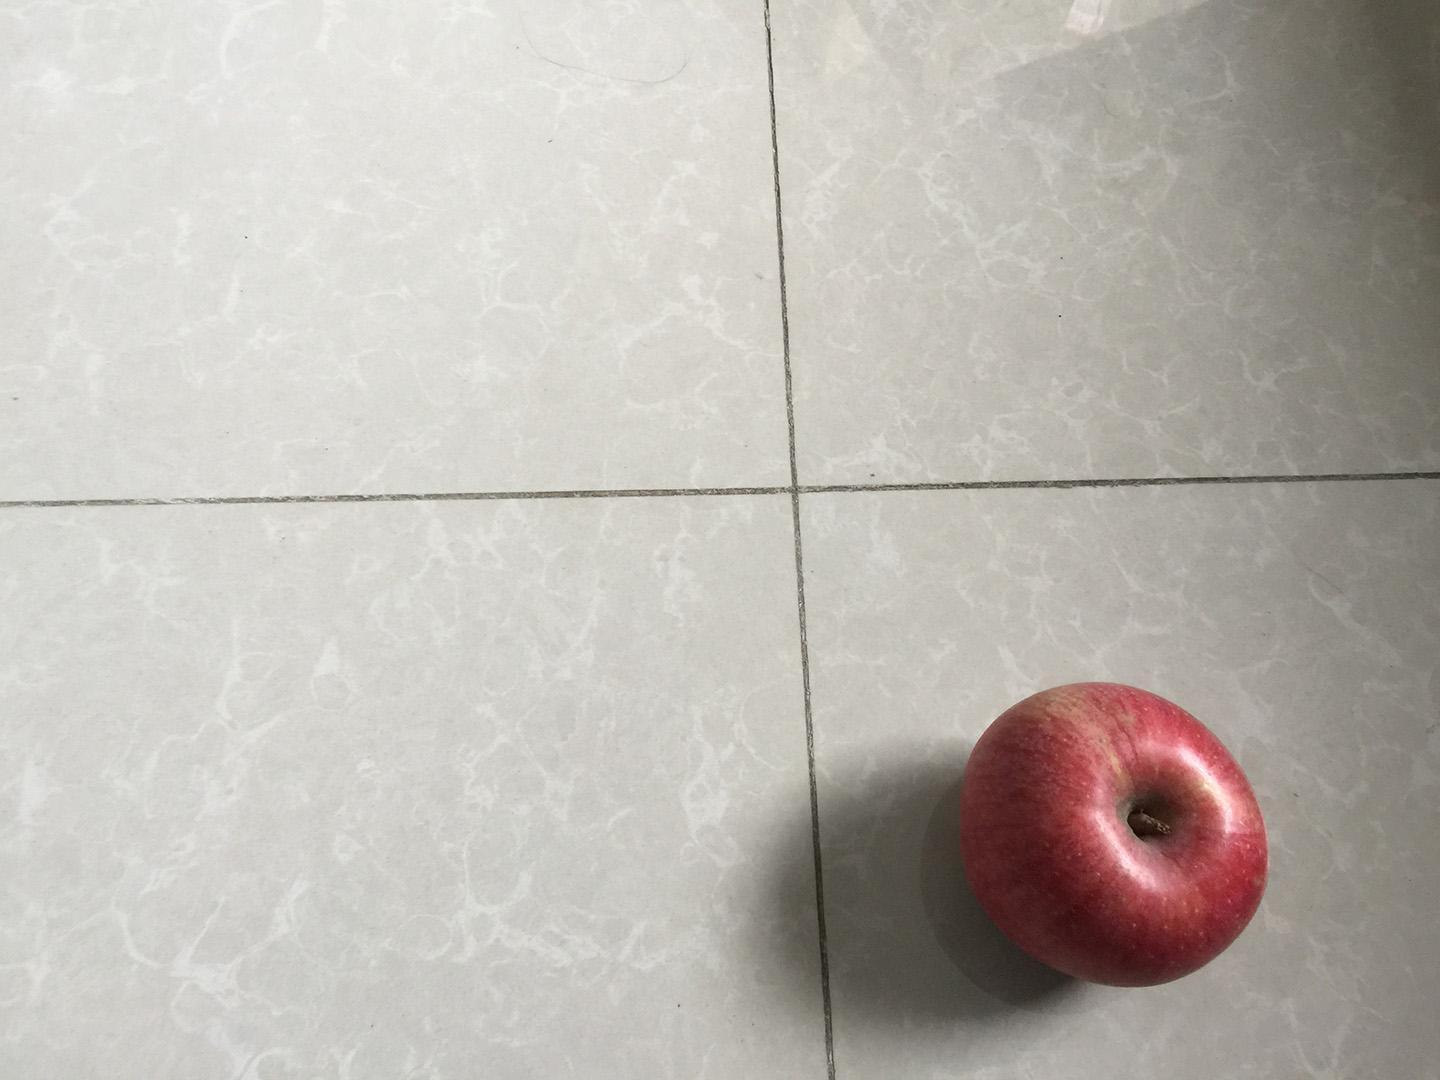apple: (952, 670, 1279, 993)
